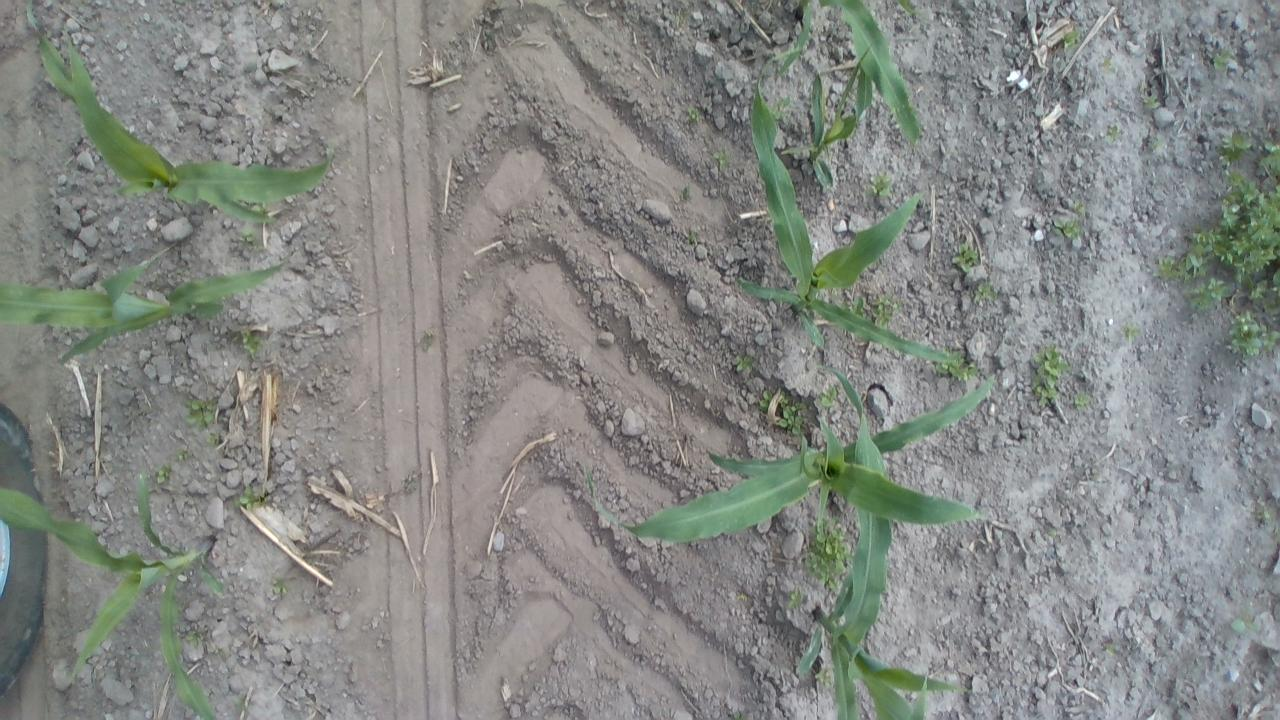Maize: (580, 364, 1005, 554), (732, 55, 978, 378), (26, 21, 342, 230), (796, 358, 976, 714), (0, 463, 225, 718), (0, 242, 296, 364), (780, 0, 926, 156), (784, 46, 874, 194)
Weeds: (1189, 142, 1277, 320), (803, 516, 857, 594), (1026, 341, 1072, 407), (1224, 310, 1278, 360), (756, 386, 806, 436), (932, 346, 984, 384), (1052, 198, 1092, 244), (1150, 251, 1192, 288), (862, 294, 906, 328), (183, 395, 224, 430), (227, 482, 271, 514), (949, 240, 981, 276), (236, 330, 270, 360), (809, 662, 838, 697), (970, 276, 1000, 308), (1120, 317, 1151, 347), (866, 169, 894, 201), (412, 328, 444, 355), (182, 625, 214, 652), (1252, 494, 1276, 529), (234, 226, 268, 250), (1230, 610, 1261, 636), (148, 460, 176, 486), (1062, 28, 1088, 56), (710, 144, 734, 174), (1206, 46, 1233, 72), (815, 382, 843, 407), (1095, 50, 1122, 75), (267, 572, 291, 600), (683, 226, 709, 251), (784, 588, 808, 615), (1140, 90, 1164, 115), (1144, 133, 1167, 159), (1070, 388, 1093, 413), (731, 352, 757, 374), (1096, 639, 1124, 659), (1102, 122, 1124, 146), (170, 446, 196, 466), (682, 103, 704, 126), (204, 430, 227, 450), (677, 182, 695, 206)
